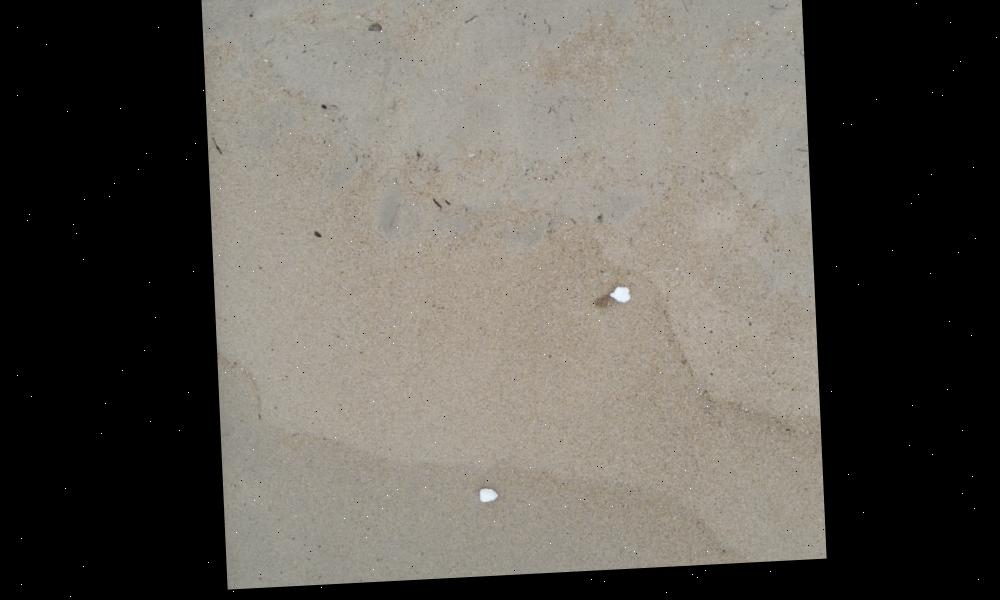styrofoam: (470, 493, 495, 510), (609, 293, 629, 310)
